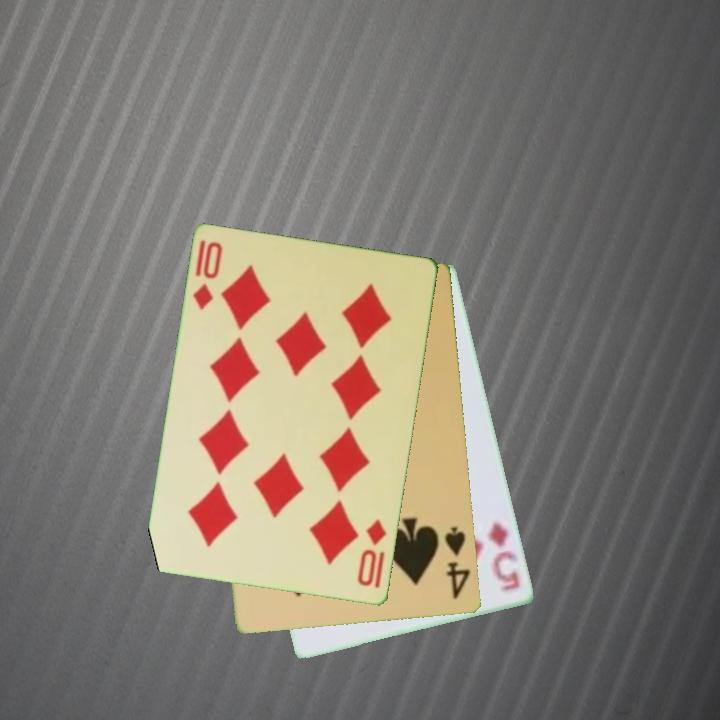10d: (190, 238, 226, 314), (354, 515, 390, 590)
4s: (441, 523, 474, 603)
5d: (485, 519, 523, 595)
